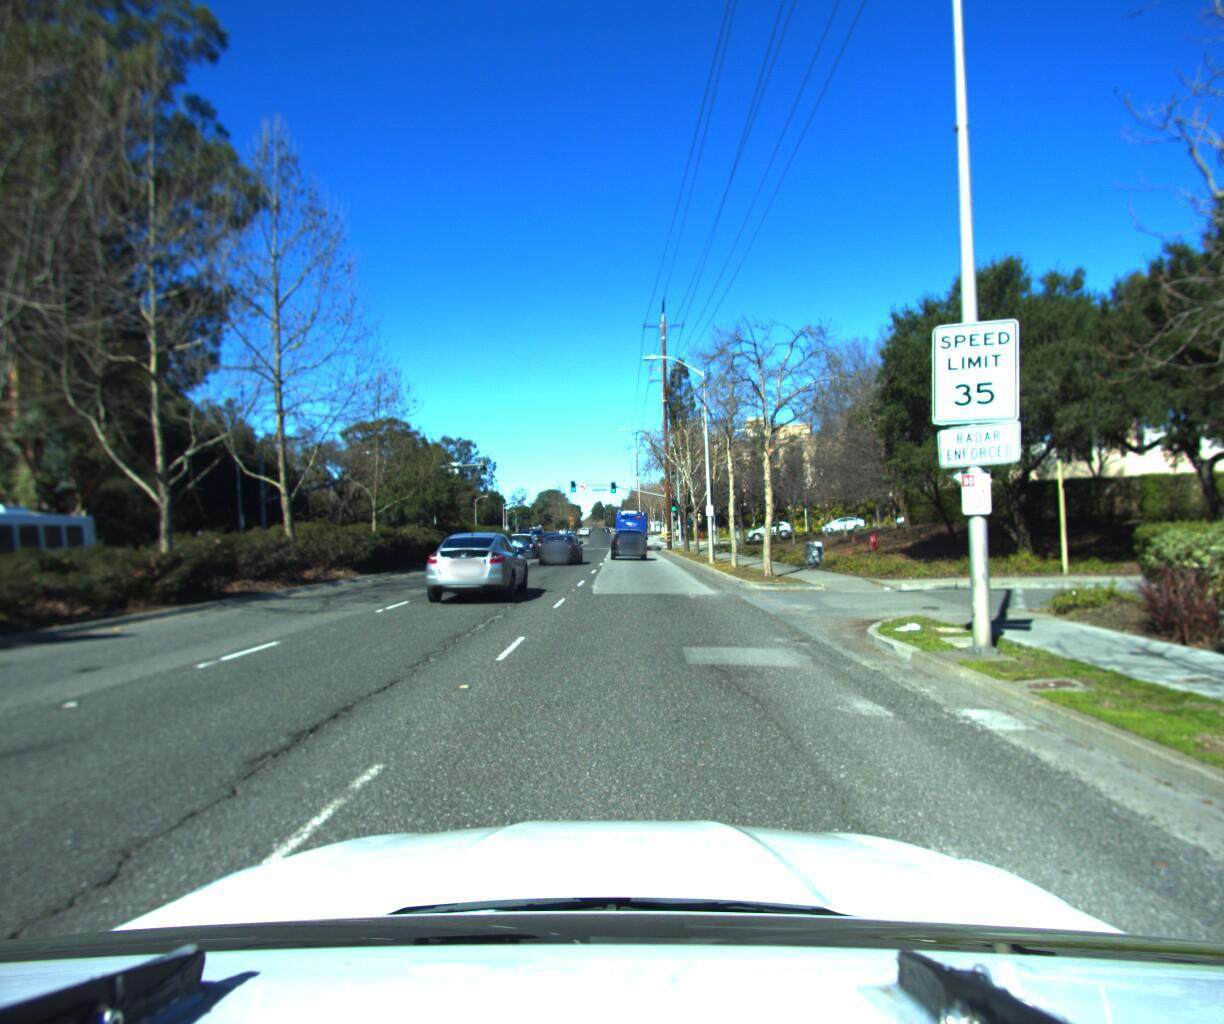bus: (613, 502, 652, 545)
car: (412, 525, 533, 602), (536, 529, 584, 562), (609, 524, 649, 558), (505, 529, 545, 557), (746, 515, 793, 536), (818, 510, 867, 529)
